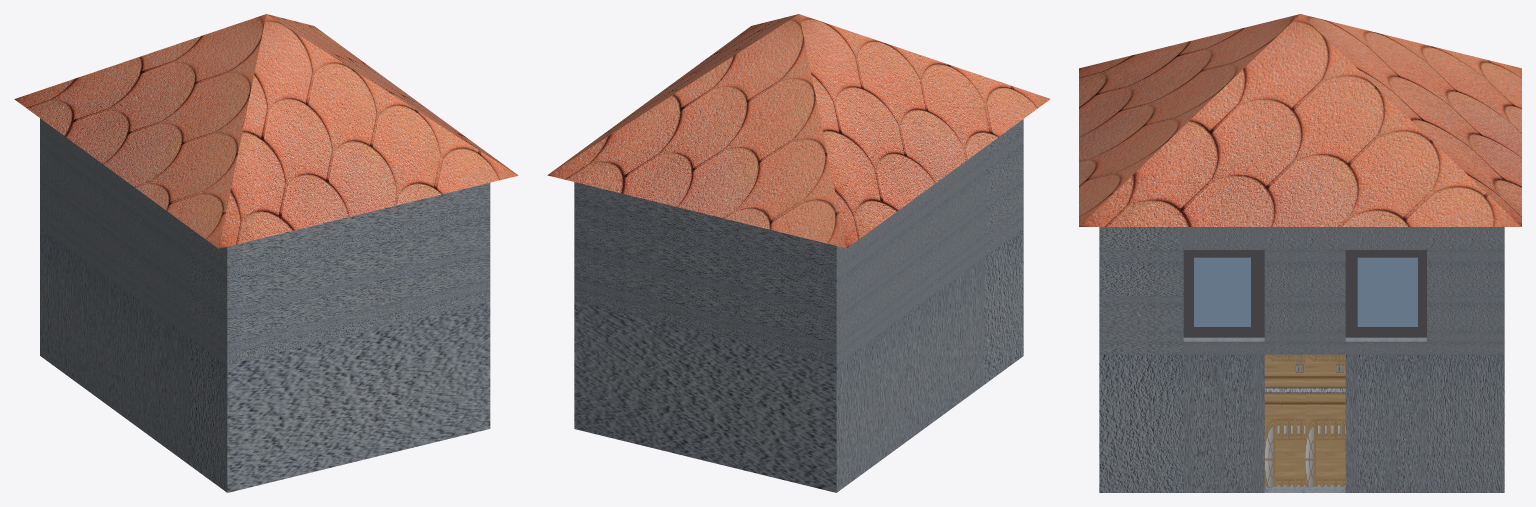
Rendered from haus2.fbx.
The picture shows the model from 3 angles, left to right: view 1: azimuth 30°, elevation 25°; view 2: azimuth 150°, elevation 25°; view 3: azimuth 270°, elevation 25°; orthographic projection. The views are drawn at different scales.
Visible parts, largest first — view 1: haus; view 2: haus; view 3: haus.
Boxes of the visible parts, <box> form: haus: <box>14,14,518,492</box>; haus: <box>547,14,1050,492</box>; haus: <box>1079,14,1521,492</box>.
Bounding box in the file's own units: 1174 × 994 × 1199.
